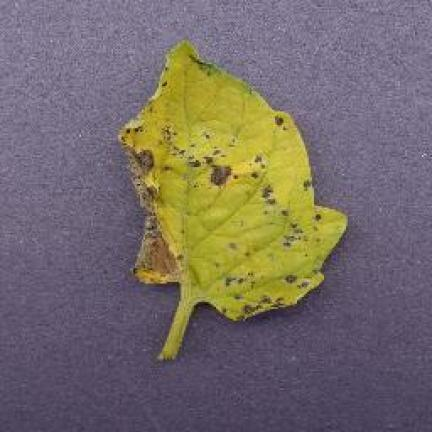disease: (120, 42, 344, 358)
leaf: (119, 62, 189, 286)
